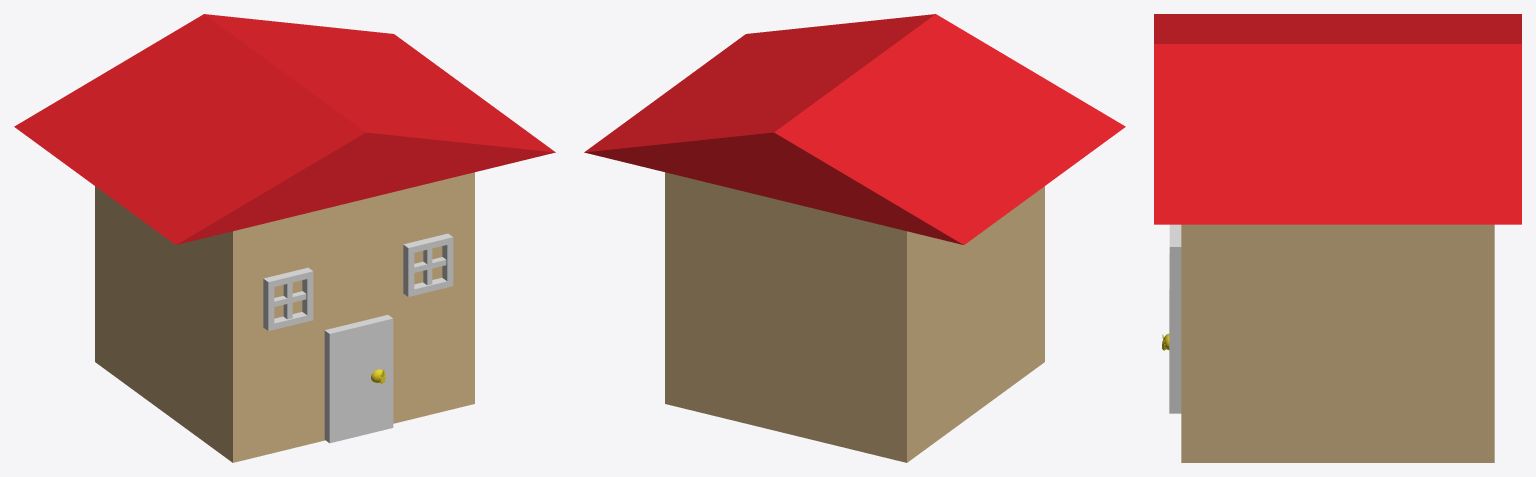
The model's file is HouseBasic.fbx.
3 views of the same model, side by side, from view 1: azimuth 30°, elevation 25°; view 2: azimuth 150°, elevation 25°; view 3: azimuth 270°, elevation 25° (orthographic). The views are drawn at different scales.
Visible parts, largest first — view 1: Window2; view 2: Window2; view 3: Window2.
Boxes of the visible parts, x1,y1,x2,y2 form: Window2: (14,14,555,462); Window2: (584,14,1125,462); Window2: (1154,14,1521,462).
Size of the model in its own units: 271 by 211 by 200.
